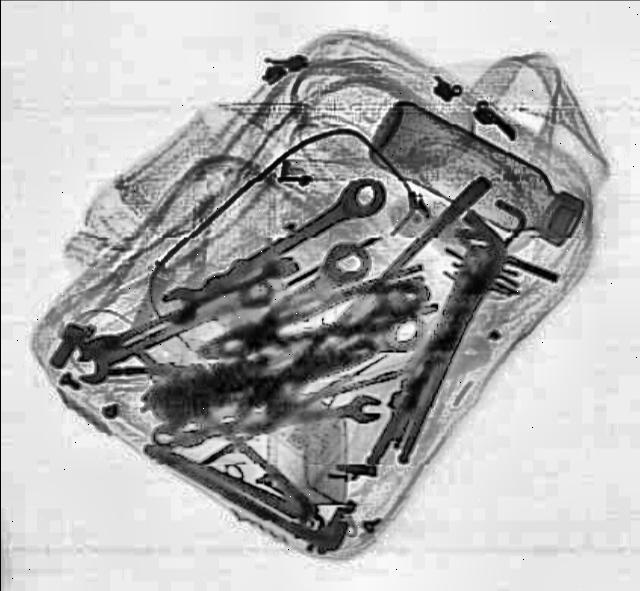Pliers: (182, 260, 438, 375)
Wrench: (147, 168, 393, 330), (62, 270, 278, 388), (146, 390, 384, 450)
